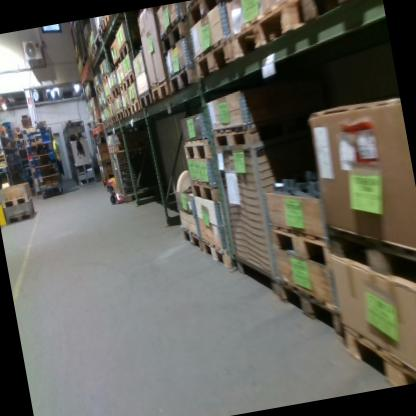pallet: (322, 202, 416, 313), (226, 0, 319, 67), (342, 312, 416, 390), (273, 264, 344, 343), (267, 208, 345, 273), (211, 117, 291, 151), (191, 33, 239, 85), (297, 0, 384, 25), (157, 14, 195, 54), (200, 233, 236, 273), (184, 0, 236, 25), (181, 134, 218, 166), (189, 171, 226, 202), (168, 63, 201, 97), (150, 79, 174, 109), (0, 189, 34, 210), (117, 36, 143, 63), (2, 204, 37, 224), (181, 222, 204, 252), (95, 17, 109, 44), (138, 90, 155, 112), (105, 142, 127, 155), (123, 68, 138, 87), (129, 100, 143, 117), (102, 13, 119, 26), (123, 103, 134, 120), (101, 72, 115, 84), (110, 82, 121, 97), (118, 80, 128, 96), (113, 54, 123, 69), (116, 109, 126, 122), (104, 91, 114, 104), (94, 83, 104, 95), (88, 52, 95, 69), (95, 116, 104, 127), (91, 44, 98, 58), (111, 113, 117, 126), (102, 121, 109, 131), (107, 116, 113, 127), (99, 104, 105, 111)
pallet_truck: (91, 127, 126, 209)
stillage: (210, 131, 323, 306), (109, 139, 158, 207), (86, 17, 107, 57), (106, 146, 120, 201)
